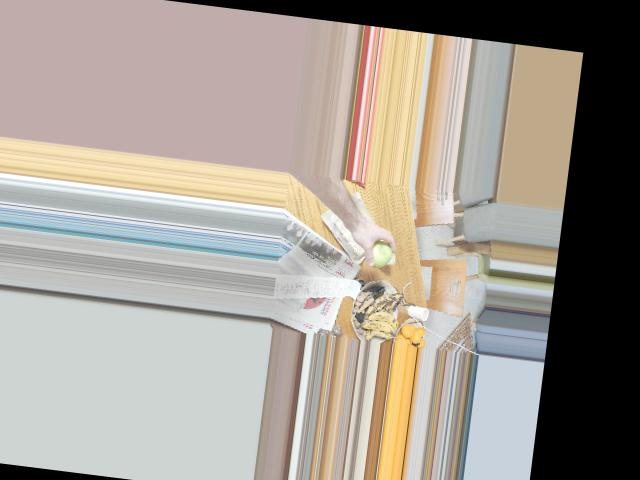apple: (360, 233, 398, 271)
